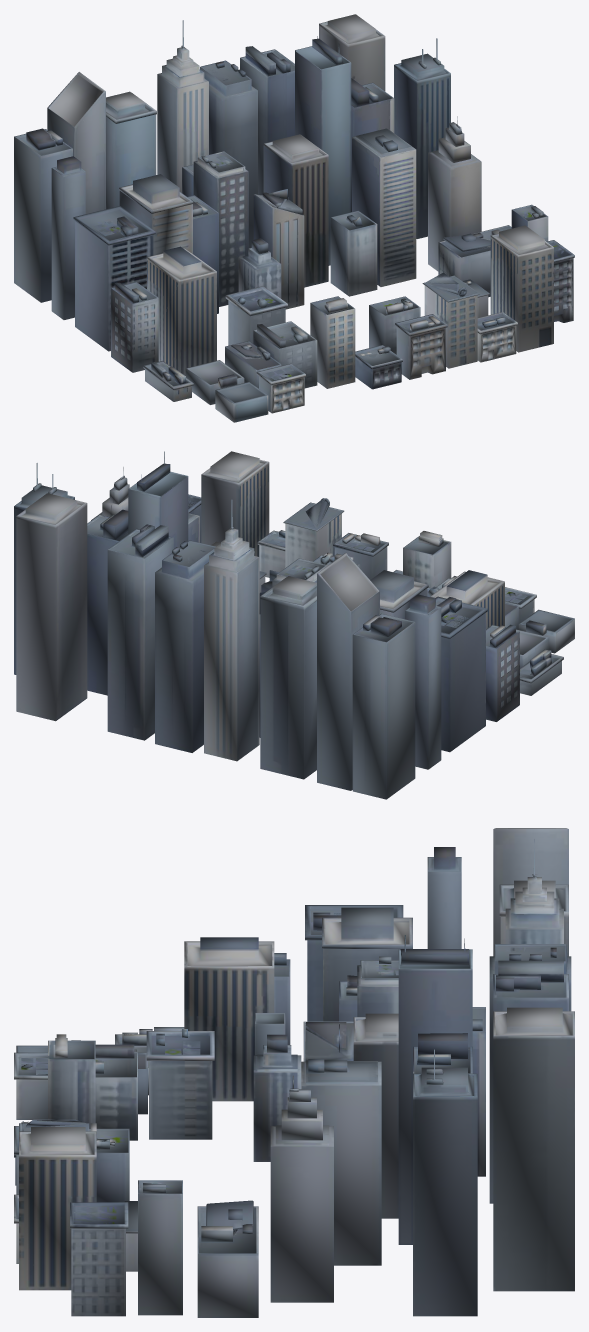
Rendered from selected.glb.
3 renders of one model, top to bottom at view 1: azimuth 30°, elevation 25°; view 2: azimuth 150°, elevation 25°; view 3: azimuth 270°, elevation 25°, orthographic. The views are drawn at different scales.
Visible parts, largest first — view 1: tripo_node_80caa4f4-90c2-42cb-8024-961c50652ec4; view 2: tripo_node_80caa4f4-90c2-42cb-8024-961c50652ec4; view 3: tripo_node_80caa4f4-90c2-42cb-8024-961c50652ec4.
Part boxes in pixels (box(x1,y1,x2,y2)): tripo_node_80caa4f4-90c2-42cb-8024-961c50652ec4: box(14, 14, 574, 422); tripo_node_80caa4f4-90c2-42cb-8024-961c50652ec4: box(14, 451, 574, 799); tripo_node_80caa4f4-90c2-42cb-8024-961c50652ec4: box(14, 828, 574, 1317).
Bounding box in the file's own units: 0.998 × 0.5762 × 0.9004.
1 material, 1 textured.
